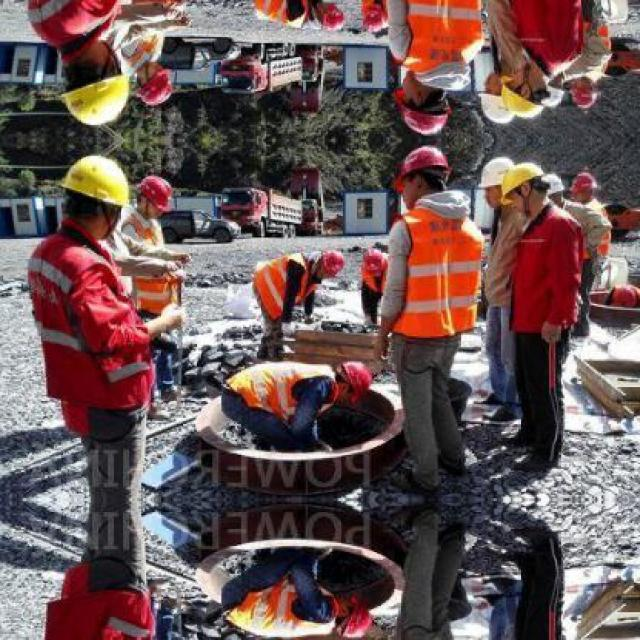Reflective-Jacket: (20, 232, 155, 416), (394, 208, 481, 339), (510, 211, 584, 335), (218, 356, 337, 424), (251, 248, 314, 322)
Safety-Helmet: (55, 148, 138, 216), (392, 142, 452, 183), (132, 171, 178, 218), (338, 358, 374, 408), (502, 163, 543, 196), (322, 250, 348, 279), (360, 248, 388, 273), (571, 171, 597, 196)
